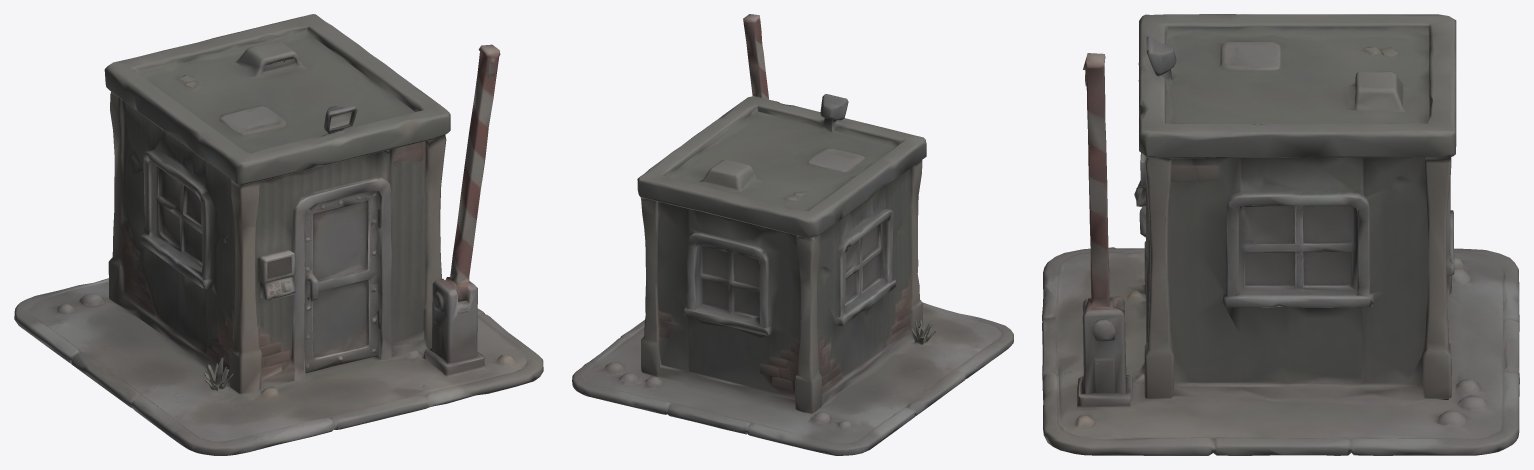
The model's file is factory_gate_guardhouse.glb.
3 views of the same model, side by side, from view 1: azimuth 30°, elevation 25°; view 2: azimuth 150°, elevation 25°; view 3: azimuth 270°, elevation 25° (orthographic). The views are drawn at different scales.
Parts seen in each view (by area): view 1: tripo_node_a5e206e8-40fc-4146-9c0a-3953b1006844; view 2: tripo_node_a5e206e8-40fc-4146-9c0a-3953b1006844; view 3: tripo_node_a5e206e8-40fc-4146-9c0a-3953b1006844.
Part boxes in pixels (<box>): tripo_node_a5e206e8-40fc-4146-9c0a-3953b1006844: <box>14,14,543,455</box>; tripo_node_a5e206e8-40fc-4146-9c0a-3953b1006844: <box>572,14,1013,455</box>; tripo_node_a5e206e8-40fc-4146-9c0a-3953b1006844: <box>1042,14,1519,455</box>.
Size of the model in its own units: 0.9921 by 0.8639 by 1.
1 material, 1 textured.
